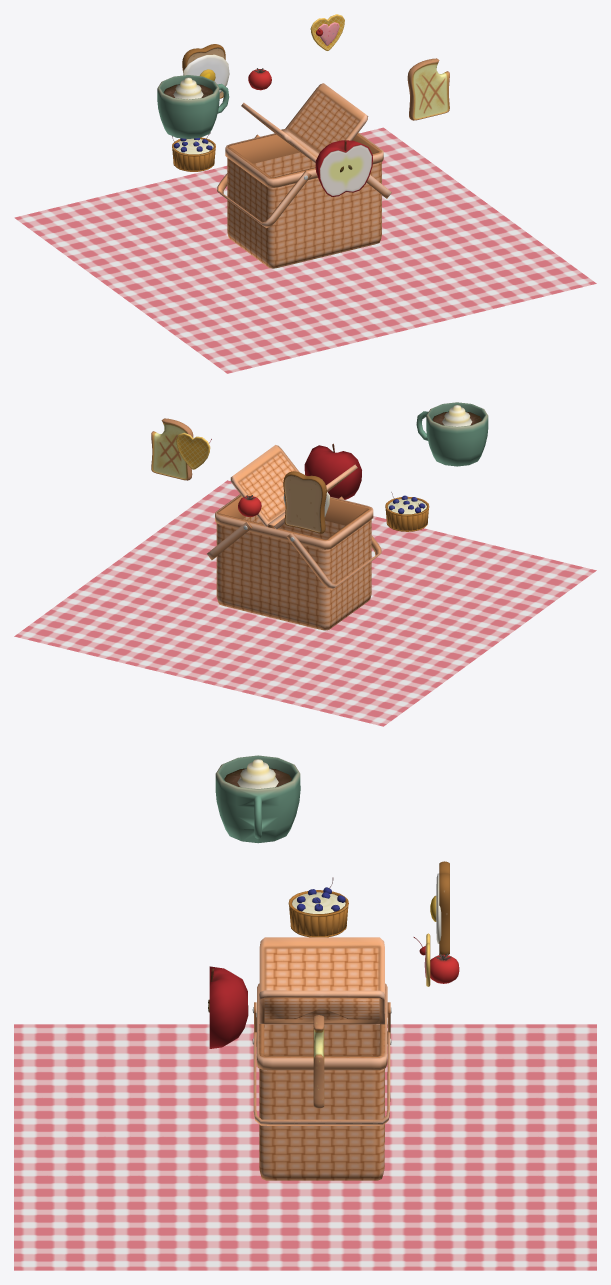
Rendered from OVERALL_ED_ROOB_ED_2.fbx.
The picture shows the model from 3 angles, top to bottom: view 1: azimuth 30°, elevation 25°; view 2: azimuth 150°, elevation 25°; view 3: azimuth 270°, elevation 25°; orthographic projection. The views are drawn at different scales.
Parts seen in each view (by area): view 1: pPlane1_prop02_prop, polySurface264_prop01_prop, prop01_B, prop01_C, prop01_G, prop01_E, prop01_F, prop01_A; view 2: pPlane1_prop02_prop, polySurface264_prop01_prop, prop01_B, prop01_E, prop01_C, prop01_G, prop01_F, prop01_A; view 3: pPlane1_prop02_prop, polySurface264_prop01_prop, prop01_B, prop01_C, prop01_F, prop01_E, prop01_G, prop01_D.
Boxes of the visible parts, box(x1,y1,x2,y2) form: pPlane1_prop02_prop: box(14, 127, 596, 373); polySurface264_prop01_prop: box(217, 83, 391, 268); prop01_B: box(157, 75, 229, 138); prop01_C: box(315, 140, 372, 196); prop01_G: box(407, 58, 449, 120); prop01_E: box(182, 44, 229, 98); prop01_F: box(172, 132, 215, 171); prop01_A: box(310, 14, 344, 50); pPlane1_prop02_prop: box(14, 480, 596, 726); polySurface264_prop01_prop: box(207, 445, 381, 630); prop01_B: box(416, 402, 488, 466); prop01_E: box(283, 471, 329, 533); prop01_C: box(304, 443, 361, 499); prop01_G: box(151, 418, 193, 480); prop01_F: box(385, 492, 429, 531); prop01_A: box(176, 432, 211, 469); pPlane1_prop02_prop: box(14, 1024, 596, 1270); polySurface264_prop01_prop: box(252, 937, 391, 1180); prop01_B: box(215, 755, 300, 843); prop01_C: box(208, 966, 248, 1048); prop01_F: box(288, 877, 348, 937); prop01_E: box(430, 861, 449, 954); prop01_G: box(313, 1015, 324, 1108); prop01_D: box(430, 953, 459, 983).
Bounding box in the file's own units: 210 × 118 × 210.
3 materials, 3 textured.
